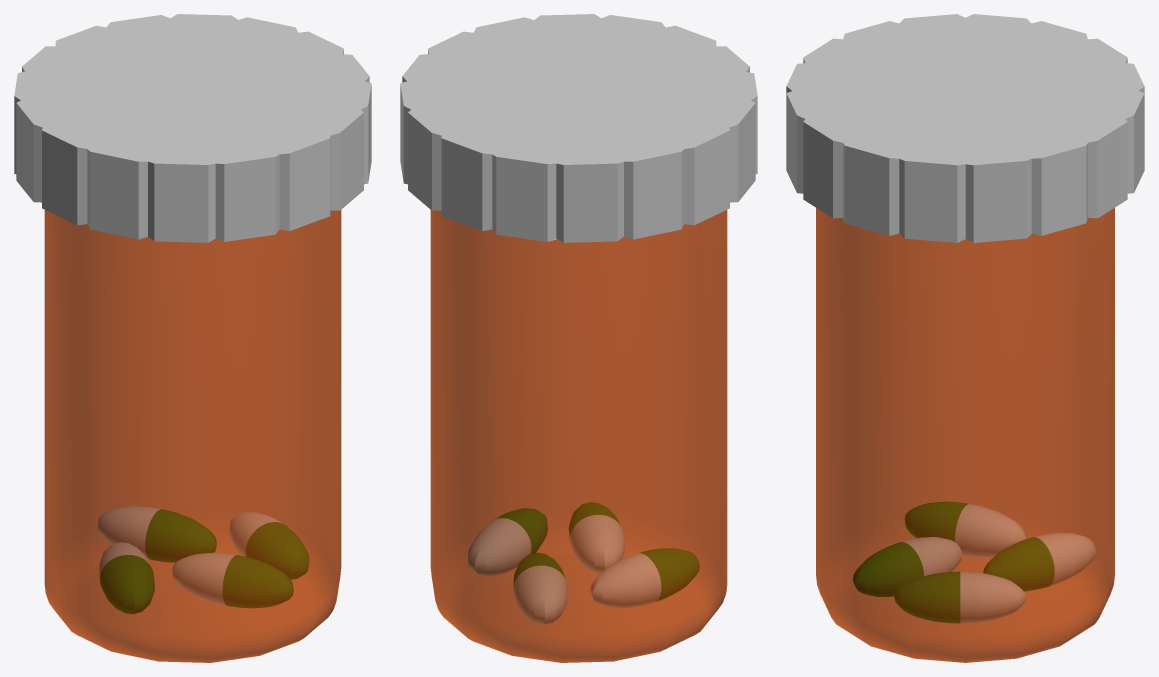
Rendered from PillBottle.fbx.
3 renders of one model, left to right at view 1: azimuth 30°, elevation 25°; view 2: azimuth 150°, elevation 25°; view 3: azimuth 270°, elevation 25°, orthographic.
Visible parts, largest first — view 1: PillBottle, Pill Bottle Cap, Pill3, Pill4, Pill1, Pill2; view 2: PillBottle, Pill Bottle Cap, Pill2, Pill1, Pill4, Pill3; view 3: PillBottle, Pill Bottle Cap, Pill1, Pill2, Pill4, Pill3.
Boxes of the visible parts, x1,y1,x2,y2 form: PillBottle: (44,210,341,662); Pill Bottle Cap: (14,14,371,242); Pill3: (172,553,293,607); Pill4: (98,506,216,562); Pill1: (229,512,308,579); Pill2: (99,542,154,613); PillBottle: (430,210,727,662); Pill Bottle Cap: (400,14,757,242); Pill2: (590,548,699,607); Pill1: (468,508,547,575); Pill4: (513,553,567,624); Pill3: (569,502,624,573); PillBottle: (816,208,1114,662); Pill Bottle Cap: (786,14,1144,242); Pill1: (894,572,1025,623); Pill2: (905,502,1025,556); Pill4: (983,533,1095,591); Pill3: (853,537,961,596).
Bounding box in the file's own units: 0.1466 × 0.2343 × 0.1466.
